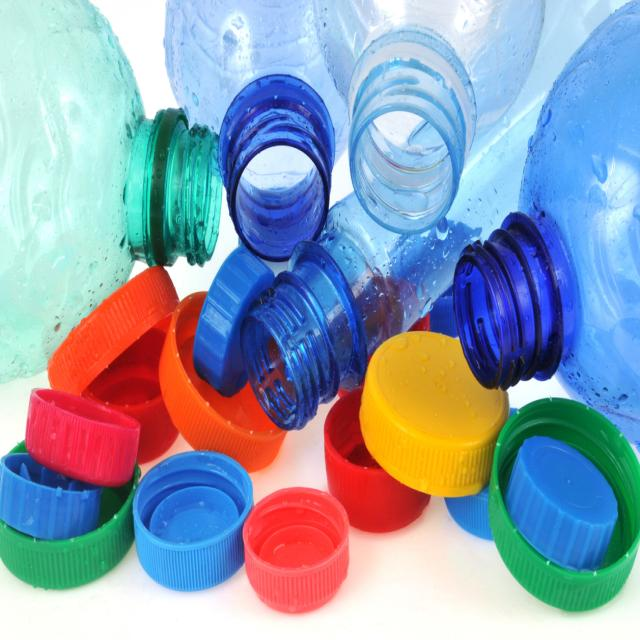cap: (490, 387, 640, 607), (360, 330, 498, 488), (137, 457, 252, 588), (513, 439, 617, 574), (240, 486, 351, 606), (170, 306, 250, 464), (320, 401, 416, 531), (50, 274, 171, 374), (3, 502, 134, 586), (20, 388, 142, 477), (3, 452, 88, 540), (448, 472, 496, 540)
no_cap: (345, 23, 473, 231), (223, 74, 334, 258), (454, 223, 568, 384), (245, 277, 334, 420), (144, 100, 219, 266)
